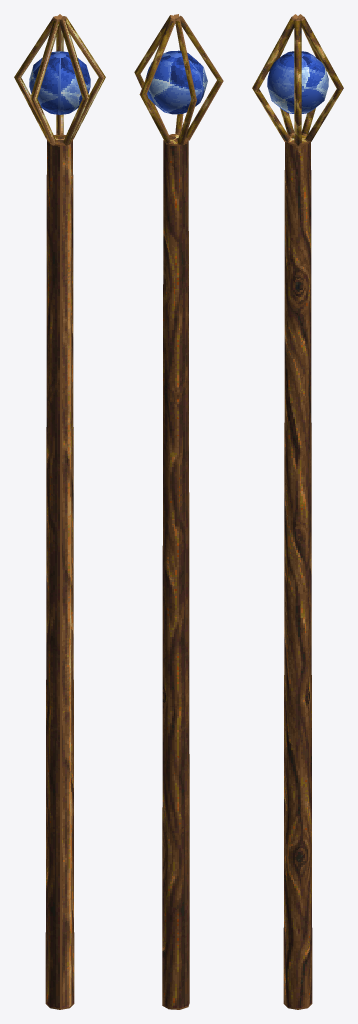
Rendered from caged_orb.glb.
3 renders of one model, left to right at view 1: azimuth 90°, elevation 25°; view 2: azimuth 150°, elevation 25°; view 3: azimuth 270°, elevation 25°, orthographic.
Visible parts, largest first — view 1: caged_orb; view 2: caged_orb; view 3: caged_orb.
Part boxes in pixels (left/top/right/bottom): caged_orb: left=14, top=14, right=105, bottom=1009; caged_orb: left=134, top=14, right=223, bottom=1009; caged_orb: left=252, top=14, right=343, bottom=1009.
Size of the model in its own units: 0.0984 by 1.22 by 0.1031.
Materials: 1 (1 with a texture image).
